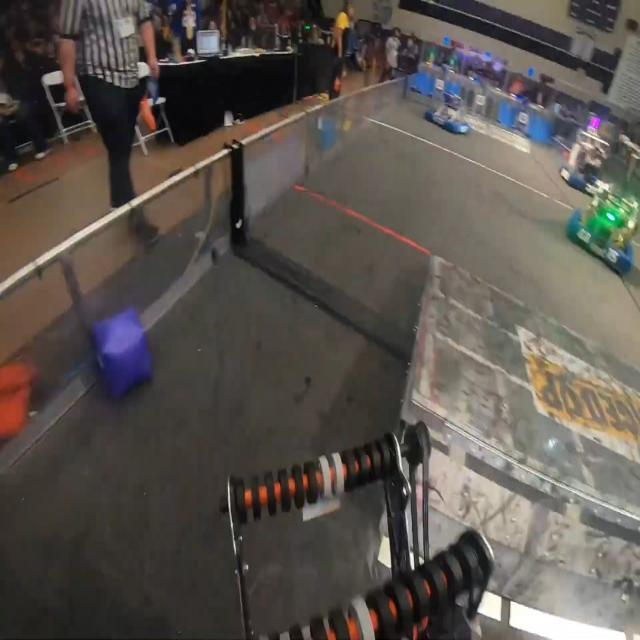robot: (567, 180, 635, 276), (560, 138, 604, 197), (424, 91, 471, 136)
